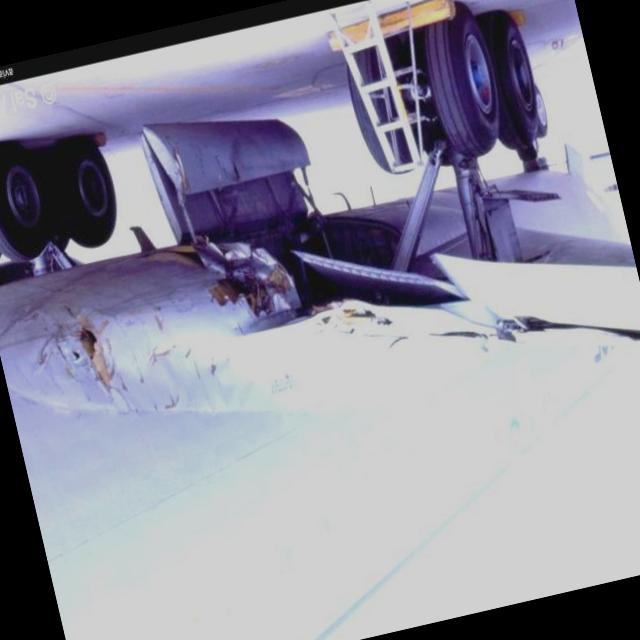crack: (58, 298, 115, 402)
dent: (108, 300, 255, 430)
